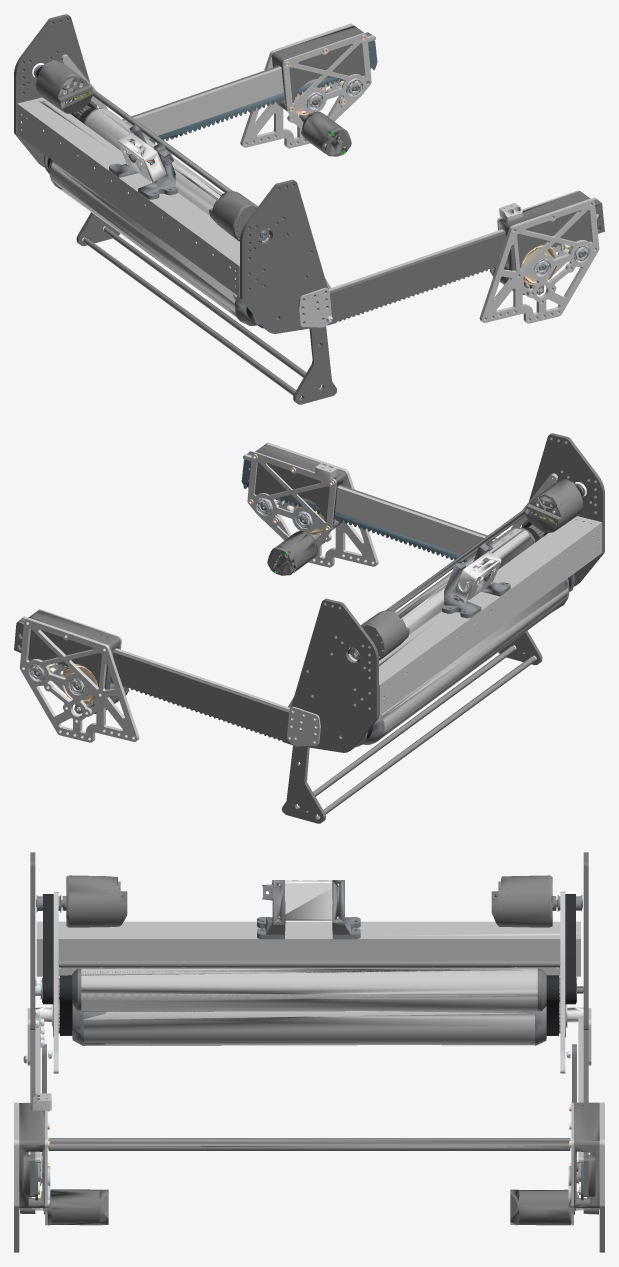
Rendered from intake-581-donor.glb.
3 views of the same model, one above another, from view 1: azimuth 30°, elevation 25°; view 2: azimuth 150°, elevation 25°; view 3: azimuth 270°, elevation 25° (orthographic). The views are drawn at different scales.
Parts seen in each view (by area): view 1: intake; view 2: intake; view 3: intake.
Part boxes in pixels (x1,y1,x2,y2): intake: (14,14,604,404); intake: (14,433,604,823); intake: (14,852,604,1252).
Bounding box in the file's own units: 0.6237 × 0.3801 × 0.7239.
